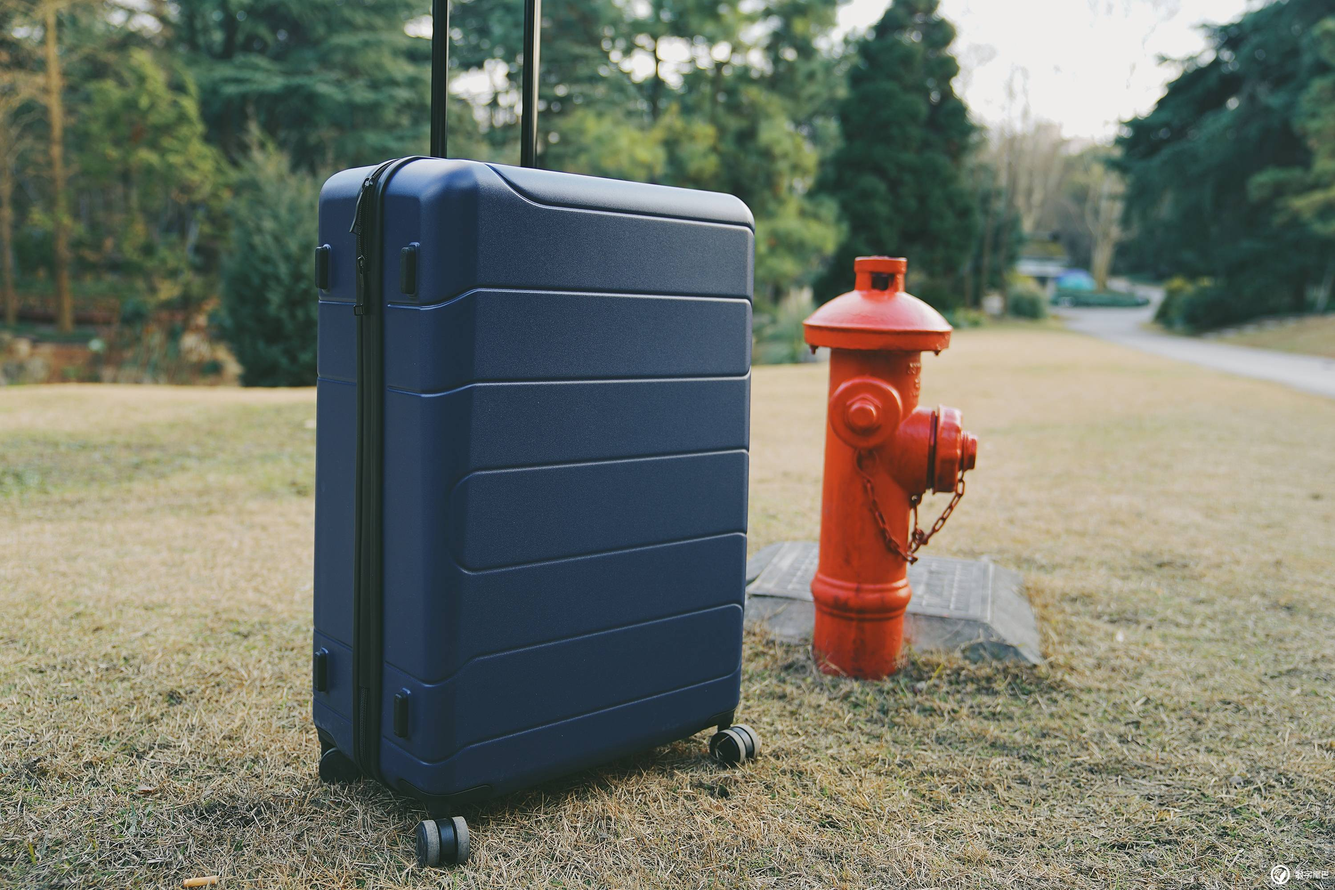box: (312, 158, 756, 805)
wheel: (416, 815, 472, 869), (710, 724, 762, 769), (319, 743, 359, 785)
